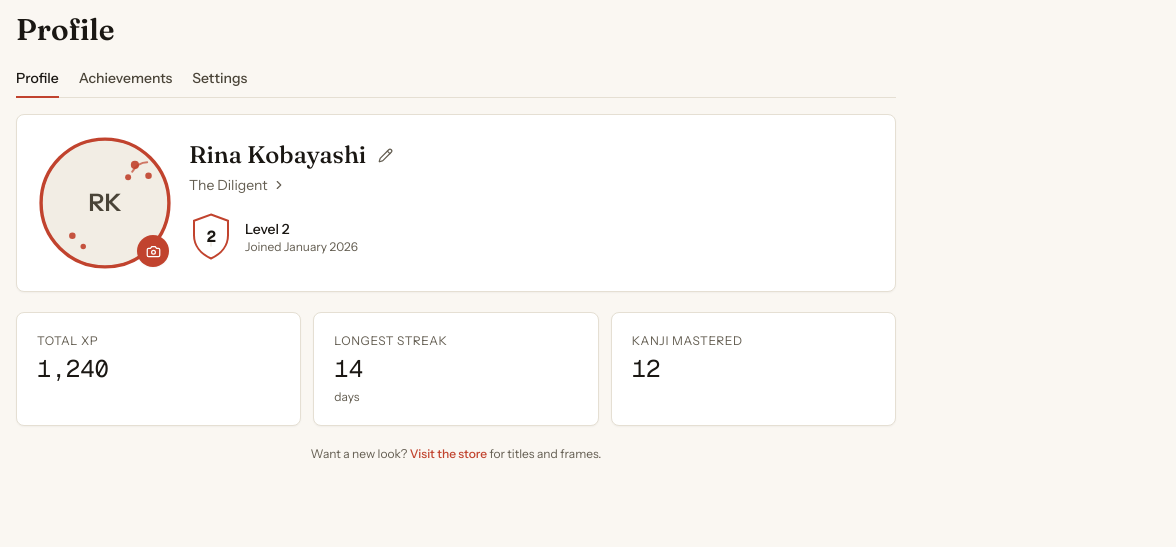
Test: Profile (§7.8) › edits the display name inline and updates the auth store
Check: the heading "Rina Kobayashi" is shown, box [189, 139, 366, 171]
Click the button named "Edit display name".
click(386, 155)  # box [374, 144, 397, 166]
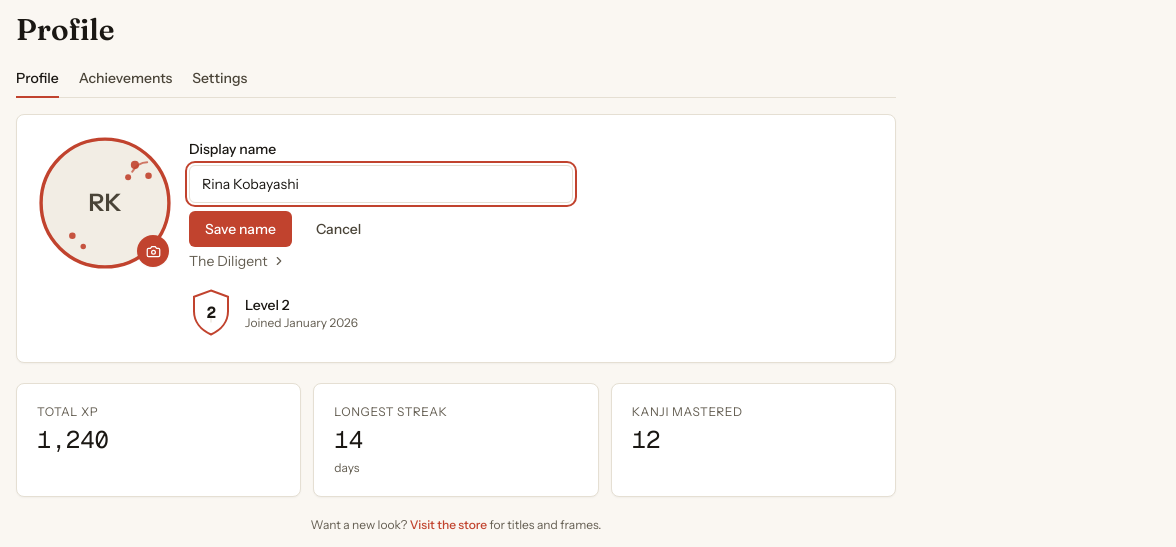
Replace the text in the field labelled "Display name" with "Rina K." at (381, 184), box [189, 165, 573, 203]
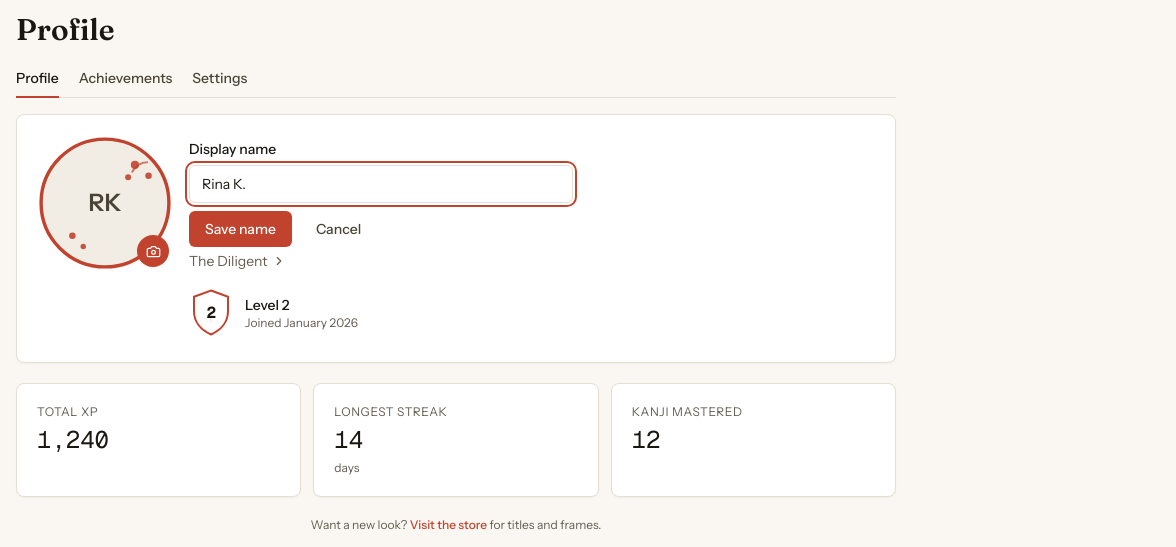
Click the button "Save name".
click(240, 229)  # box [189, 211, 292, 247]
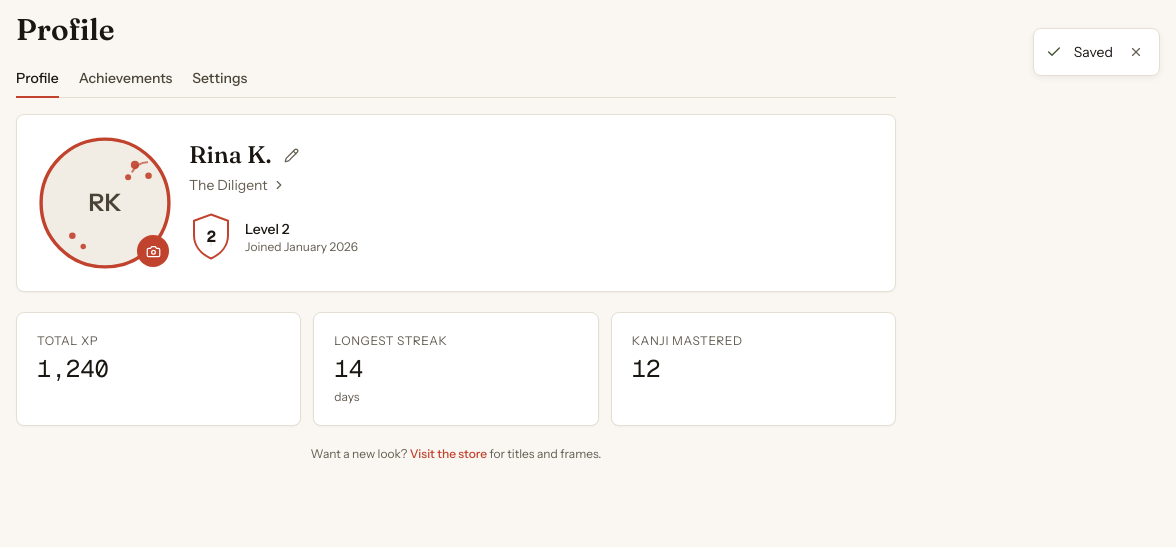
Check: the heading "Rina K." is shown, box [189, 139, 272, 171]
Check: the text "Saved" is shown, box [1074, 42, 1113, 62]
